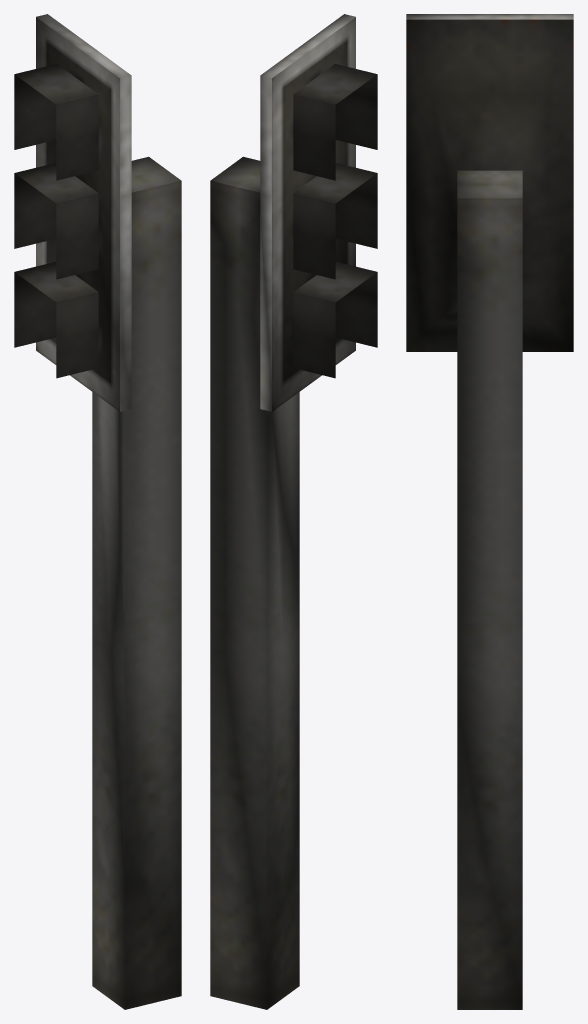
Rendered from trafficlight0.fbx.
The picture shows the model from 3 angles, left to right: view 1: azimuth 30°, elevation 25°; view 2: azimuth 150°, elevation 25°; view 3: azimuth 270°, elevation 25°; orthographic projection.
Visible parts, largest first — view 1: trafficlight0; view 2: trafficlight0; view 3: trafficlight0.
Boxes of the visible parts, x1=… form: trafficlight0: x1=14, y1=14, x2=181, y2=1009; trafficlight0: x1=210, y1=14, x2=377, y2=1009; trafficlight0: x1=406, y1=14, x2=573, y2=1009.
Bounding box in the file's own units: 55 × 61.6 × 388.
Materials: 1 (1 with a texture image).
